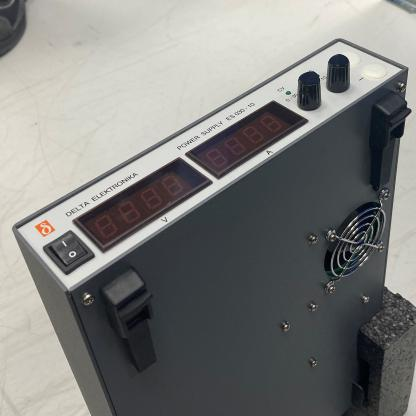SP0000005: (2, 0, 415, 415)
